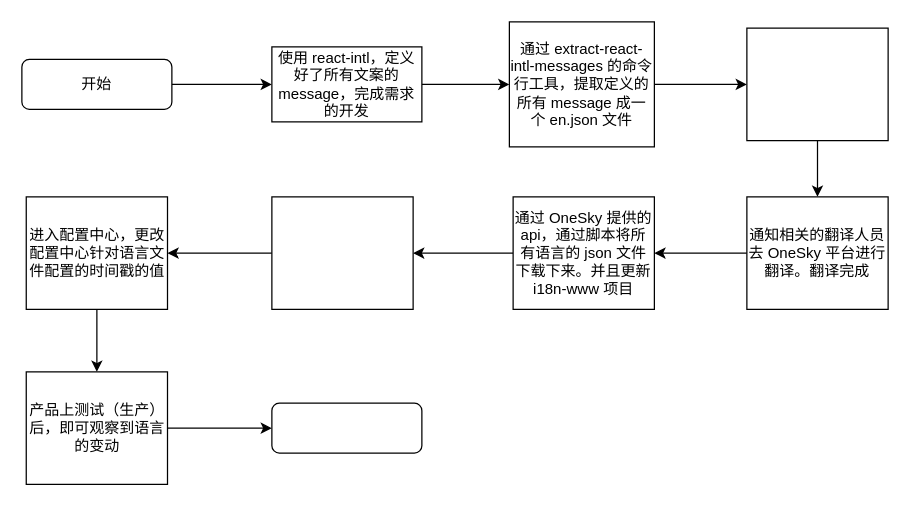
Some shapes in this 910 by 506 pixel diagram are drawn without their labels. Here are the shapes that lost their labels. From the top down, the centre of each, then its label:
At (x=817, y=84): "通过 OneSky 提供的 api，将 en.json 通过脚本上传到 OneSky 平台".
At (x=342, y=252): "进入云效平台，进行 i18n-www 项目测试（生产）环境的部署".
At (x=346, y=427): "结束".
